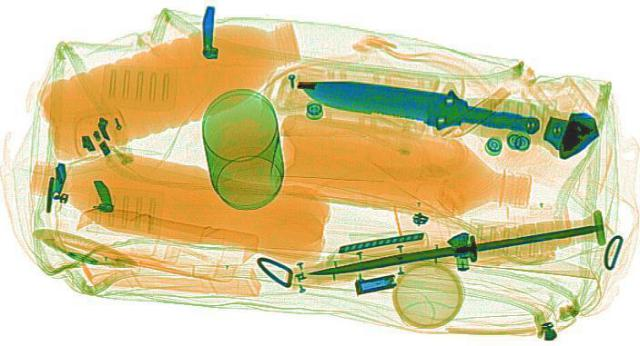Knife: (302, 205, 626, 286), (276, 64, 550, 143)
